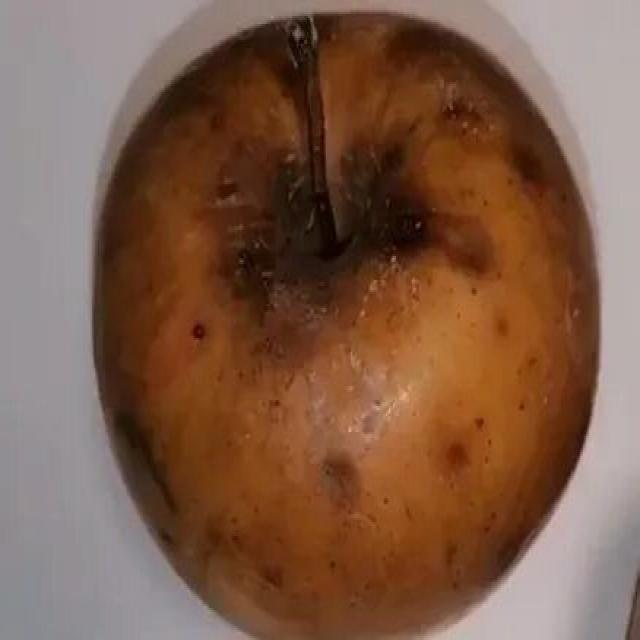Rotten: (90, 10, 598, 640)
